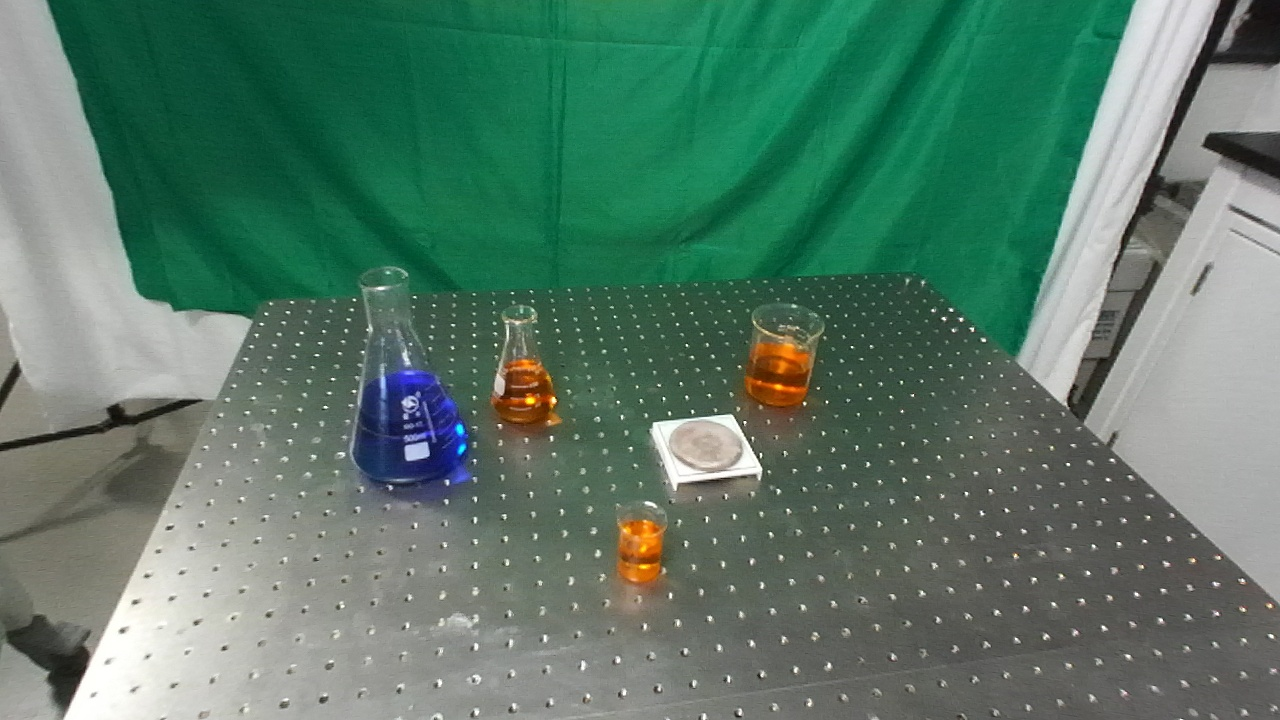glass: (341, 264, 477, 489), (742, 299, 827, 411), (489, 303, 560, 427), (614, 495, 670, 591)
plate: (646, 409, 767, 493)
